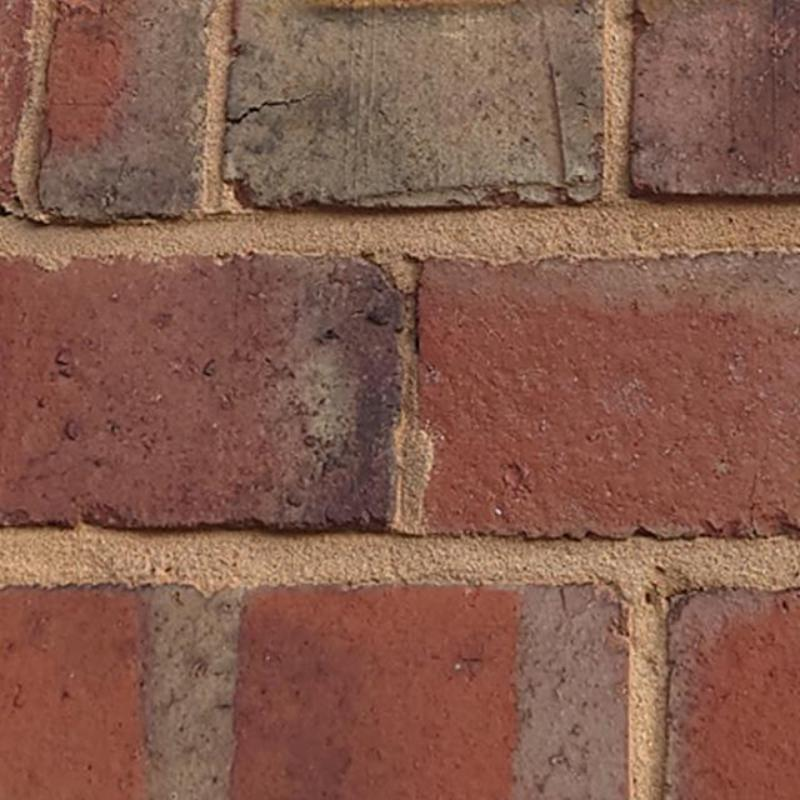pothole: (226, 89, 322, 125)
